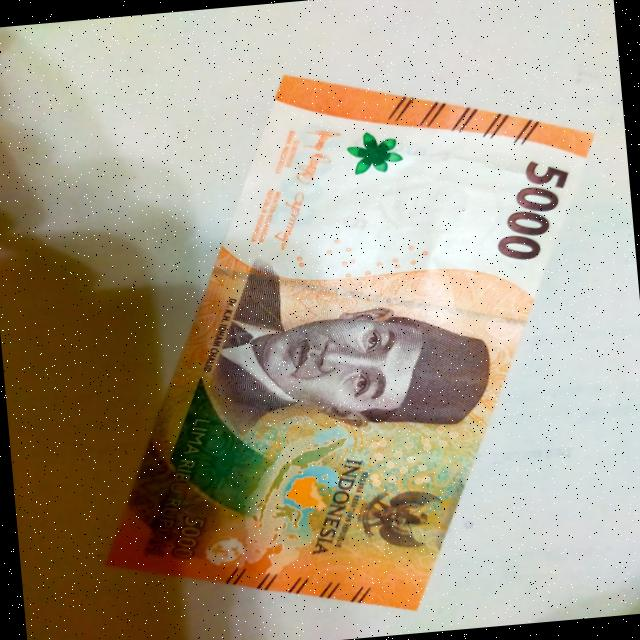5K: (54, 44, 636, 639)
